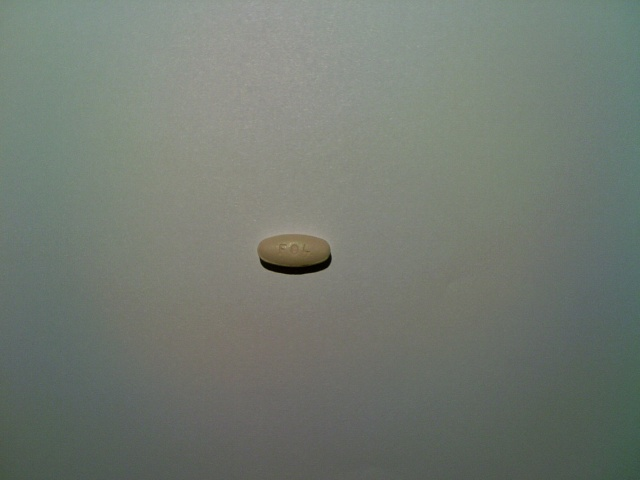0: (289, 242, 299, 258)
F: (277, 242, 288, 256)
L: (300, 242, 313, 257)
